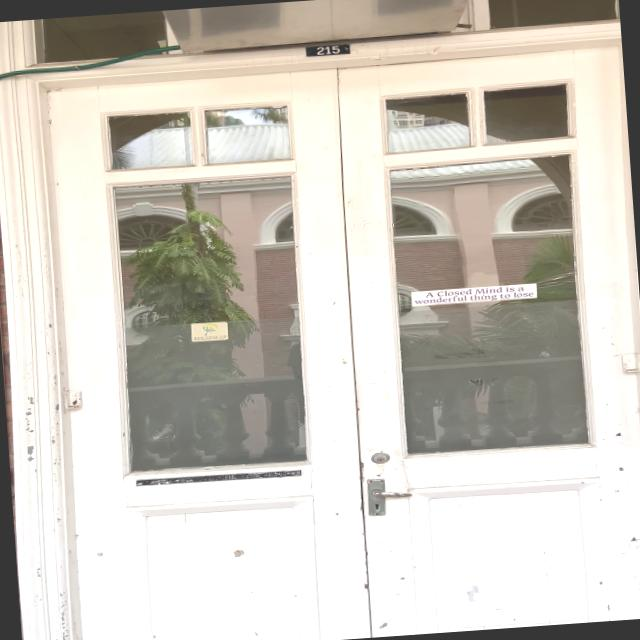room215: (302, 41, 352, 58)
